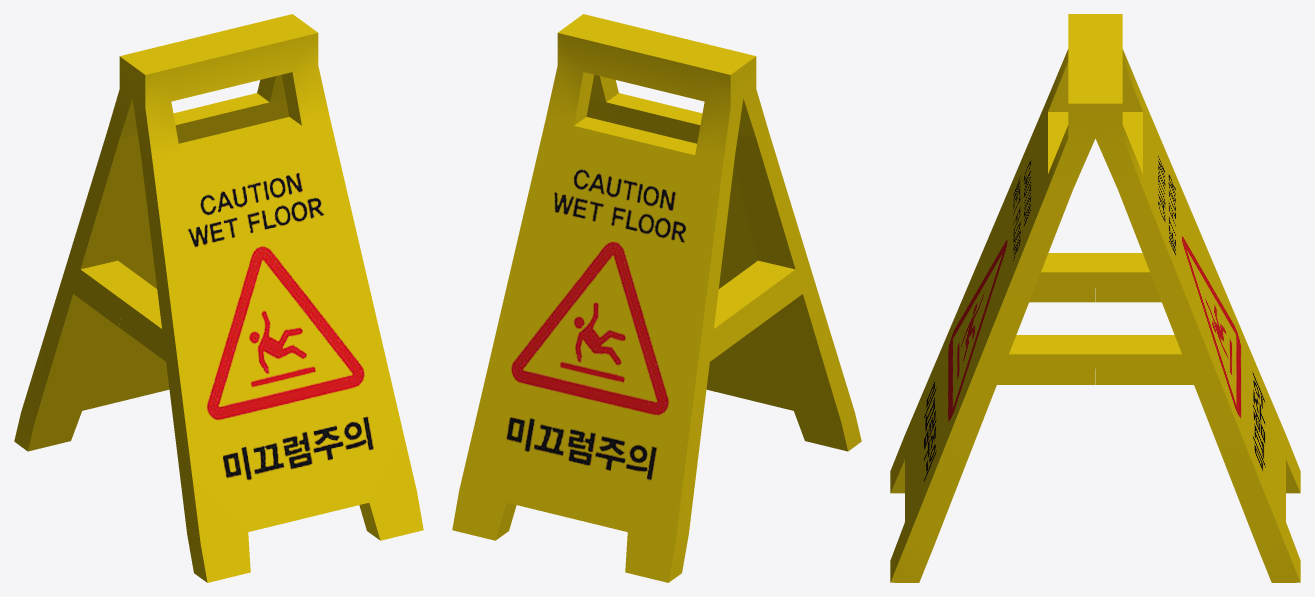
The model's file is Wet Floor Sign.fbx.
3 renders of one model, left to right at view 1: azimuth 30°, elevation 25°; view 2: azimuth 150°, elevation 25°; view 3: azimuth 270°, elevation 25°, orthographic. The views are drawn at different scales.
Parts seen in each view (by area): view 1: Box001; view 2: Box001; view 3: Box001.
Part boxes in pixels (x1=…): Box001: x1=14, y1=14, x2=423, y2=582; Box001: x1=452, y1=14, x2=861, y2=582; Box001: x1=890, y1=14, x2=1300, y2=582.
Bounding box in the file's own units: 100 × 195 × 155.
